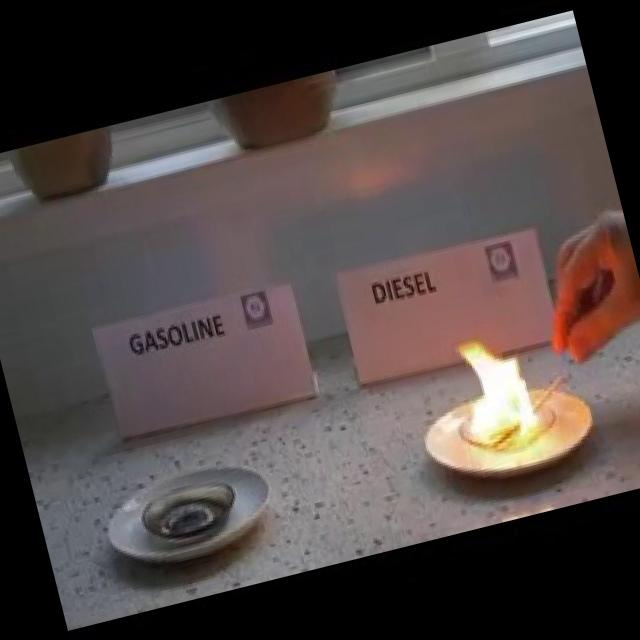Smoke: (447, 324, 548, 449)
